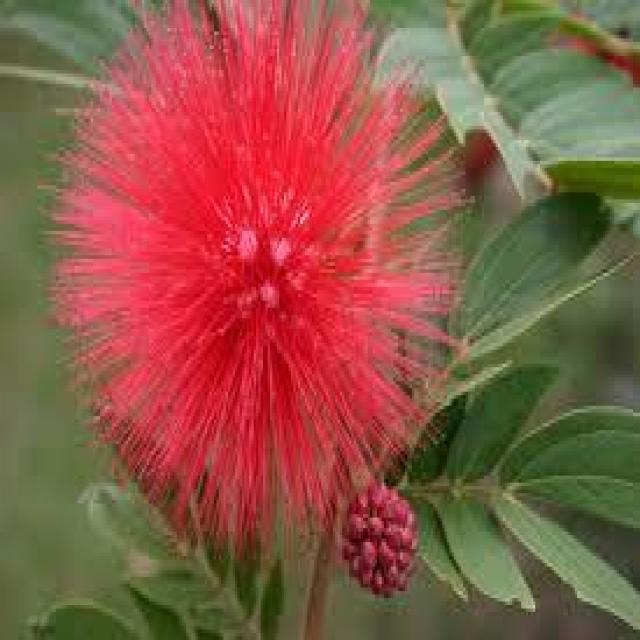organic waste: (50, 4, 471, 549)
